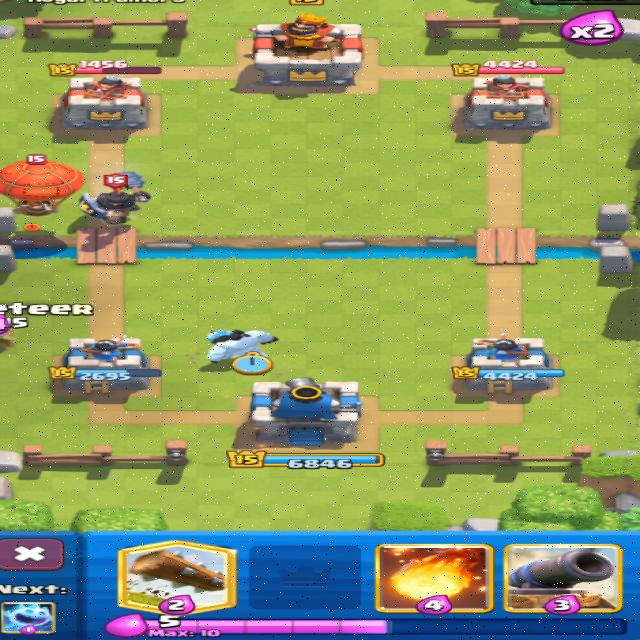Enemy-Balloon: (0, 155, 83, 215)
Enemy-DarkPrince-Shield-Charge: (80, 172, 150, 224)
Enemy-KingTower: (252, 13, 362, 85)
Enemy-PrincessTower: (464, 76, 550, 133), (60, 78, 147, 130)
Player-IceGolem: (206, 330, 278, 362)
Player-KingTower-Activated: (251, 377, 362, 447)
Player-PrincessTower: (53, 336, 161, 391), (452, 334, 550, 393)
